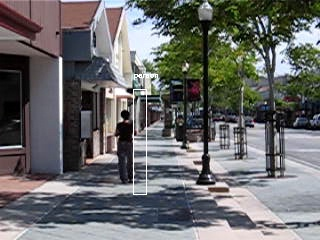person: (115, 110, 138, 185), (114, 110, 137, 185), (116, 110, 139, 185), (115, 109, 138, 184), (115, 111, 138, 186)
target_negative: (123, 94, 238, 225), (51, 189, 180, 235), (15, 166, 53, 200), (86, 204, 96, 240), (245, 190, 261, 210), (311, 159, 319, 160)
